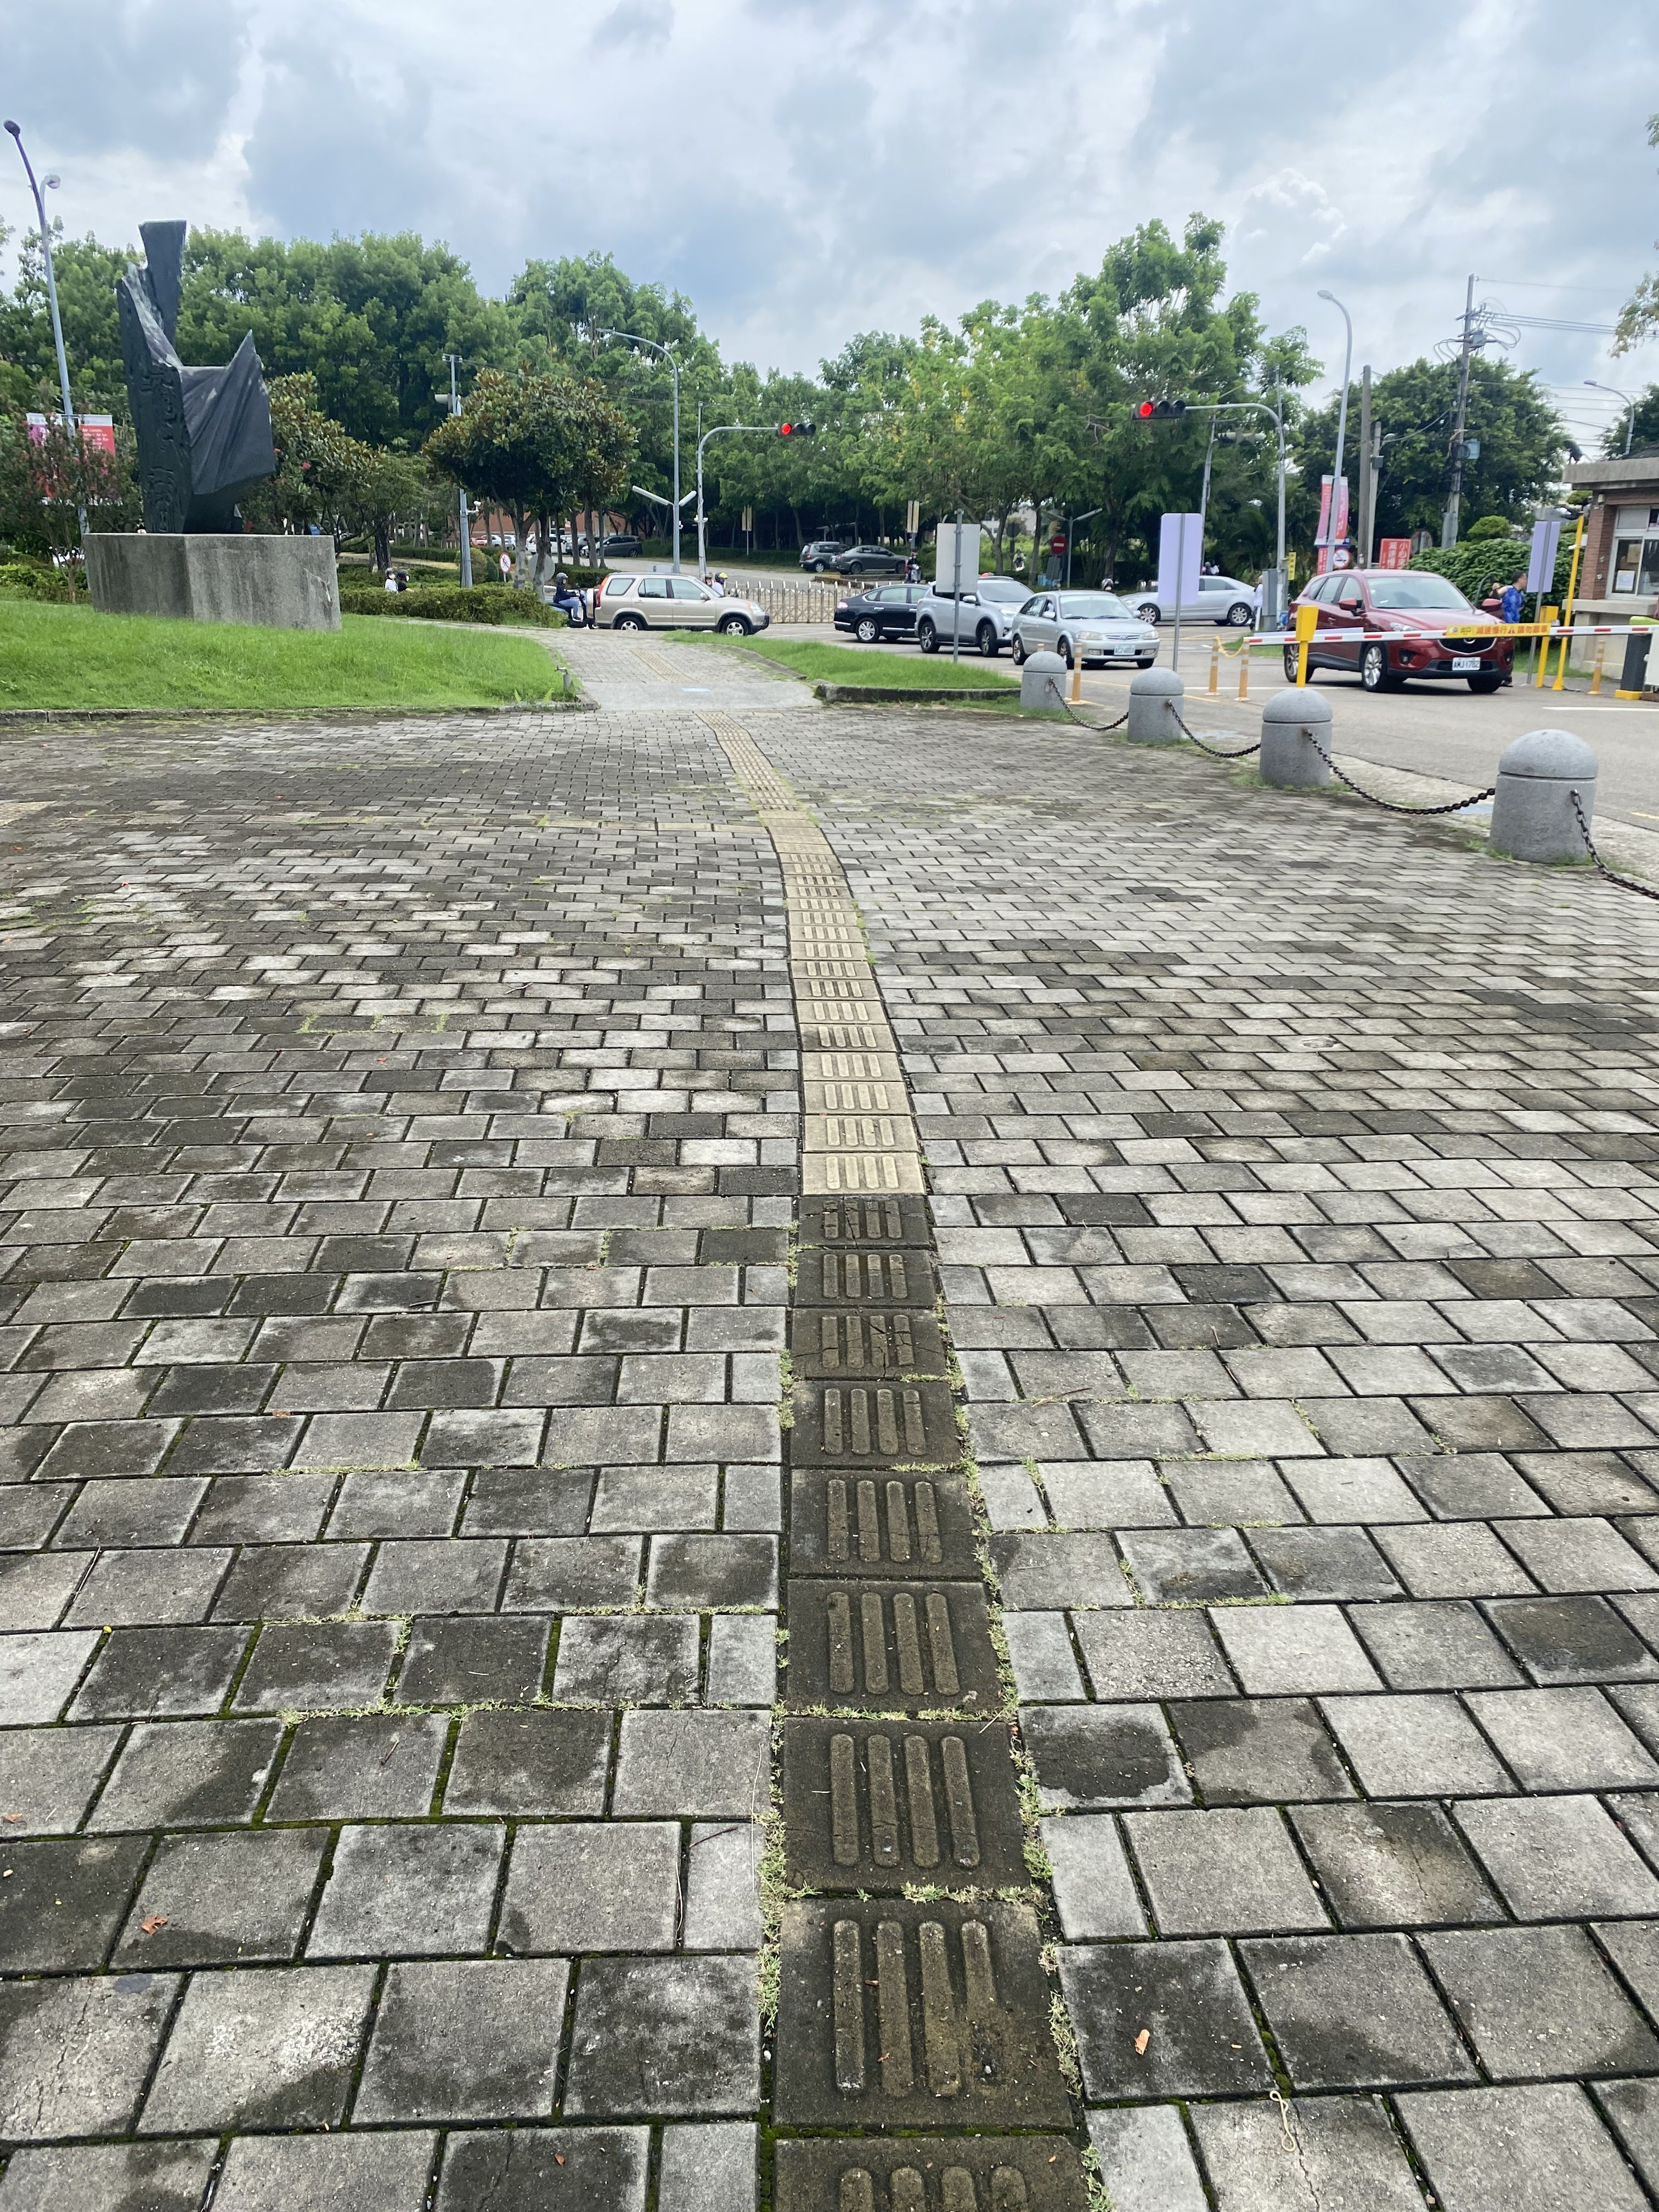sidewalk: (0, 601, 1659, 2212)
